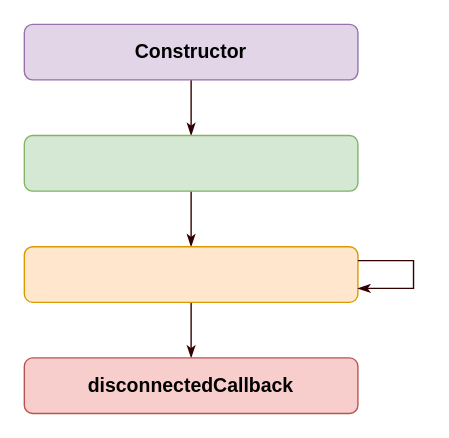
This 449x438 diagram has some shape labels left out. Here are the shapes that lost their labels. From the top down, the centre of each, then its label:
the point at 190,162: connectedCallback
the point at 190,273: attributeChangedCallback
